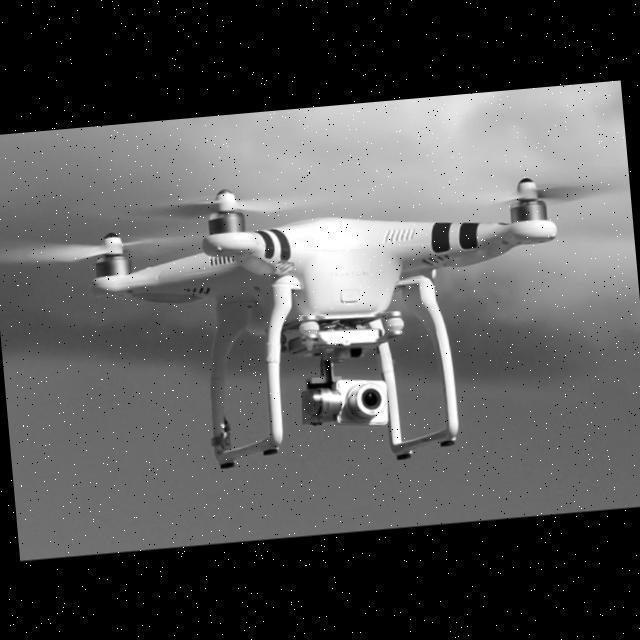Drons: (0, 144, 640, 496)
